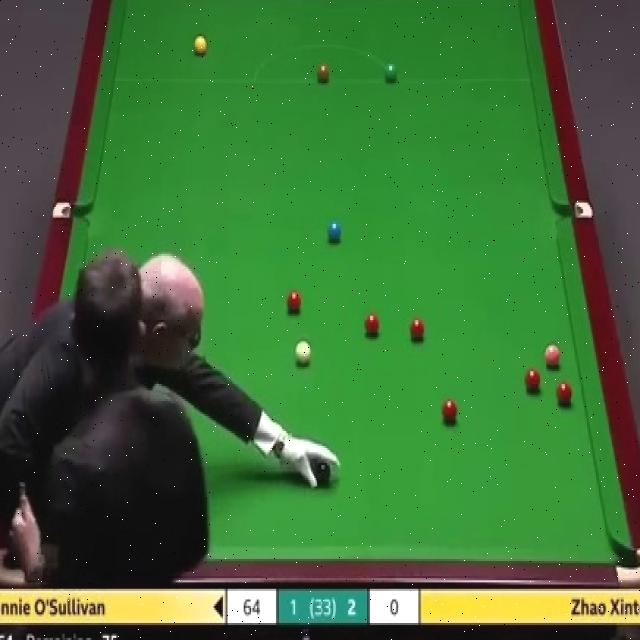black-ball: (313, 460, 330, 487)
blue-ball: (328, 221, 341, 244)
brown-ball: (317, 64, 330, 84)
green-ball: (385, 63, 397, 83)
pink-ball: (545, 342, 562, 370)
red-ball: (440, 398, 458, 425), (410, 315, 426, 341), (364, 312, 379, 338), (525, 369, 541, 391), (558, 383, 572, 407), (288, 288, 301, 312)
white-ball: (294, 338, 312, 368)
yellow-ball: (193, 36, 209, 58)
